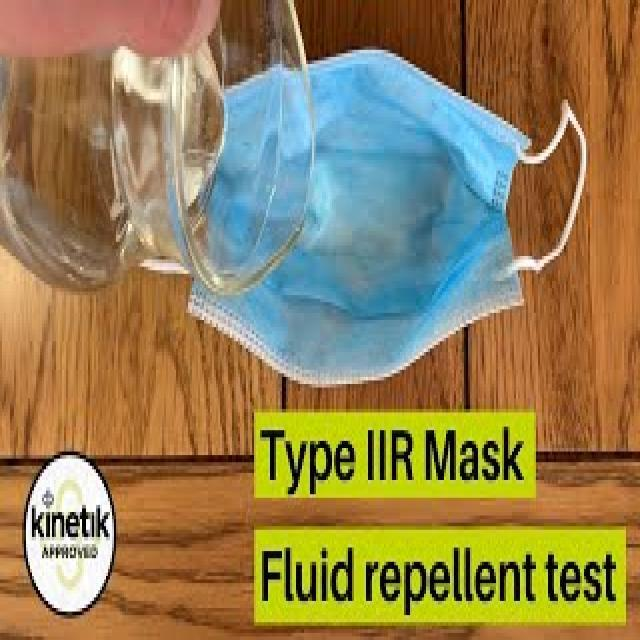face mask: (162, 64, 590, 384)
